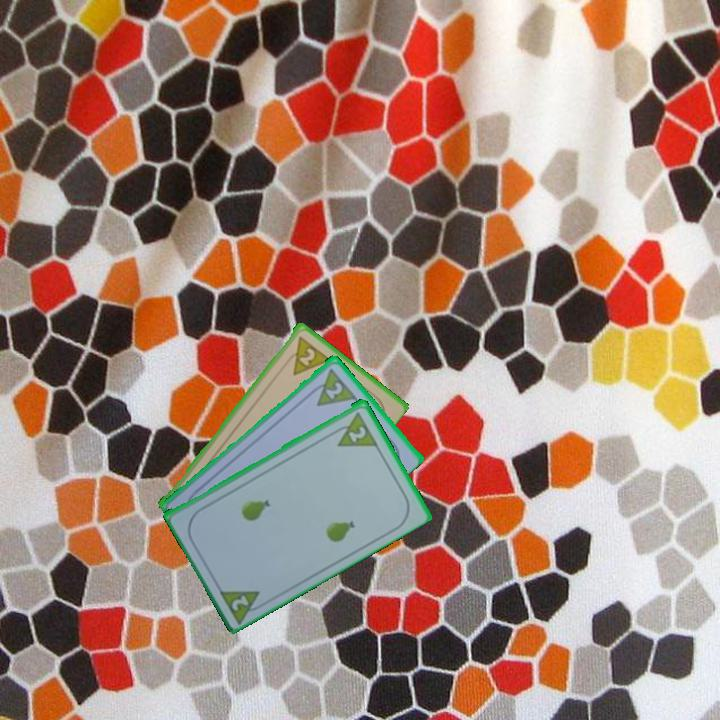2p: (281, 332, 332, 378), (328, 407, 380, 450), (322, 378, 346, 402), (228, 591, 252, 613)
